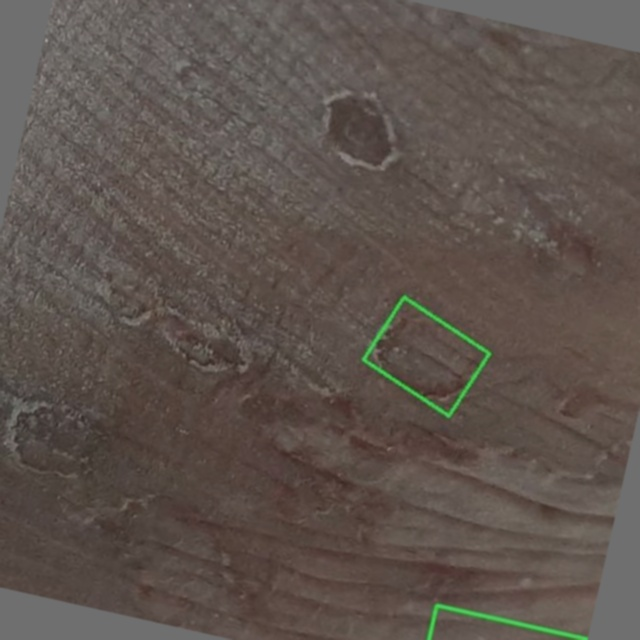Contact Dermatitis: (362, 297, 488, 415)
